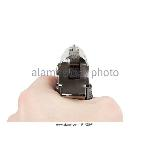Pistol: (54, 41, 96, 99)
